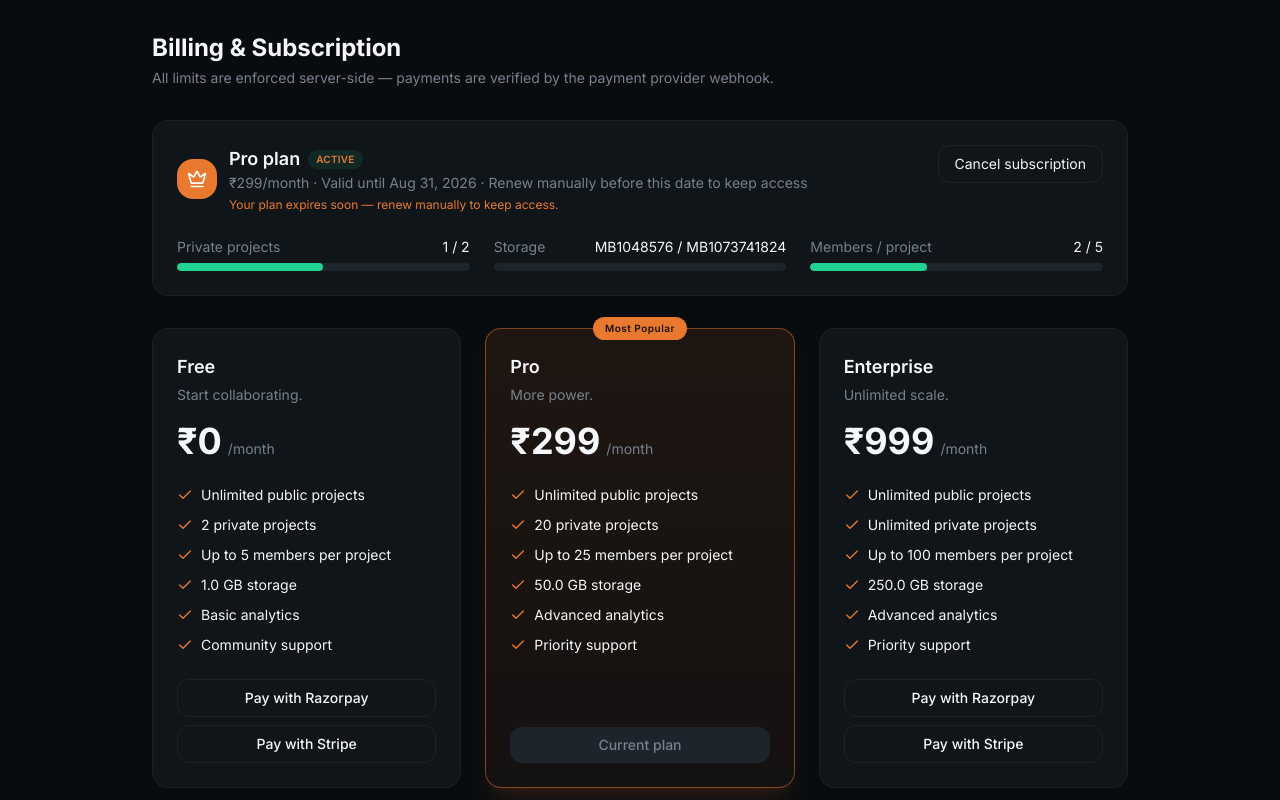
Test case: Billing › cancels the subscription with confirmation
This screenshot has width=1280, height=800.
Expected: the text "Pro plan" is shown, [229,145,300,173]
What coordinates should you click on to do the following:
click the button "Cancel subscription"
I would click on:
 (1020, 164)
Its box is [938,145,1103,183].
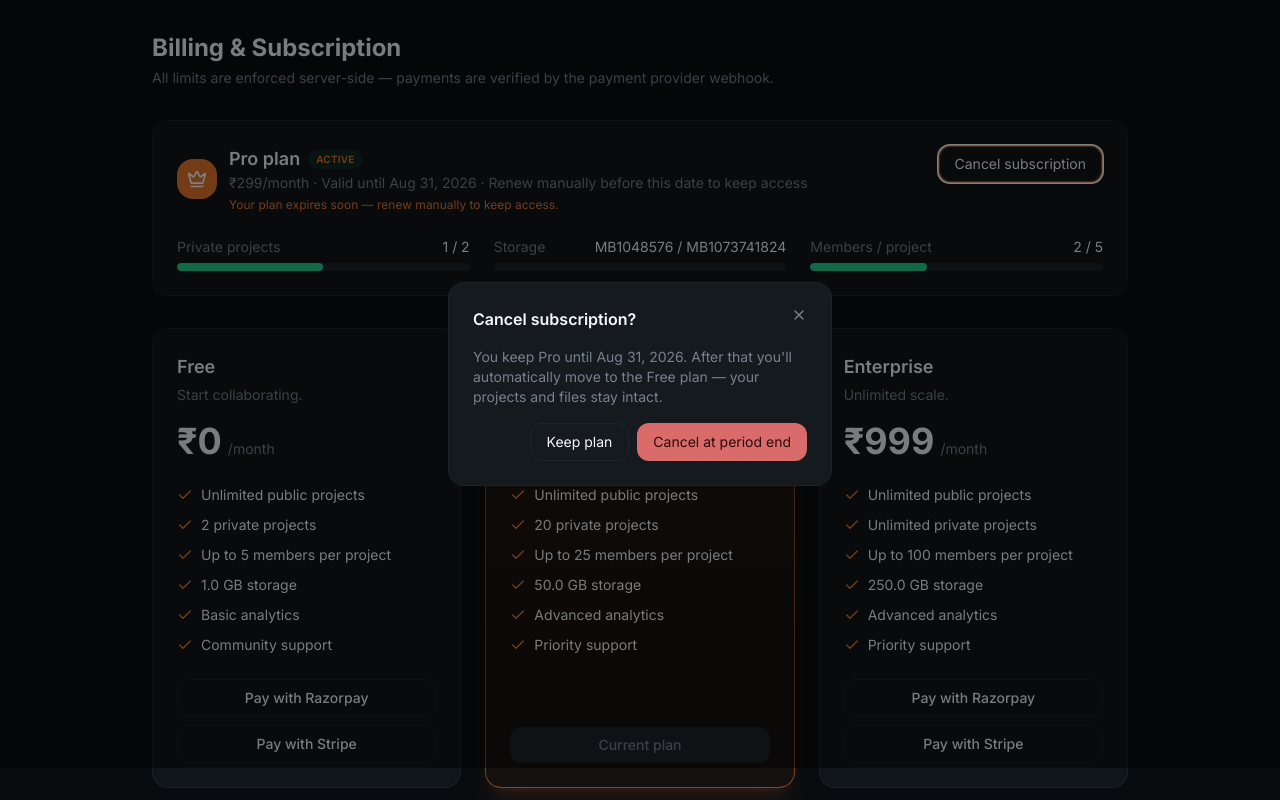
What coordinates should you click on to do the following:
click the button "Cancel at period end"
I would click on:
 (722, 442)
Its box is [637,423,807,461].
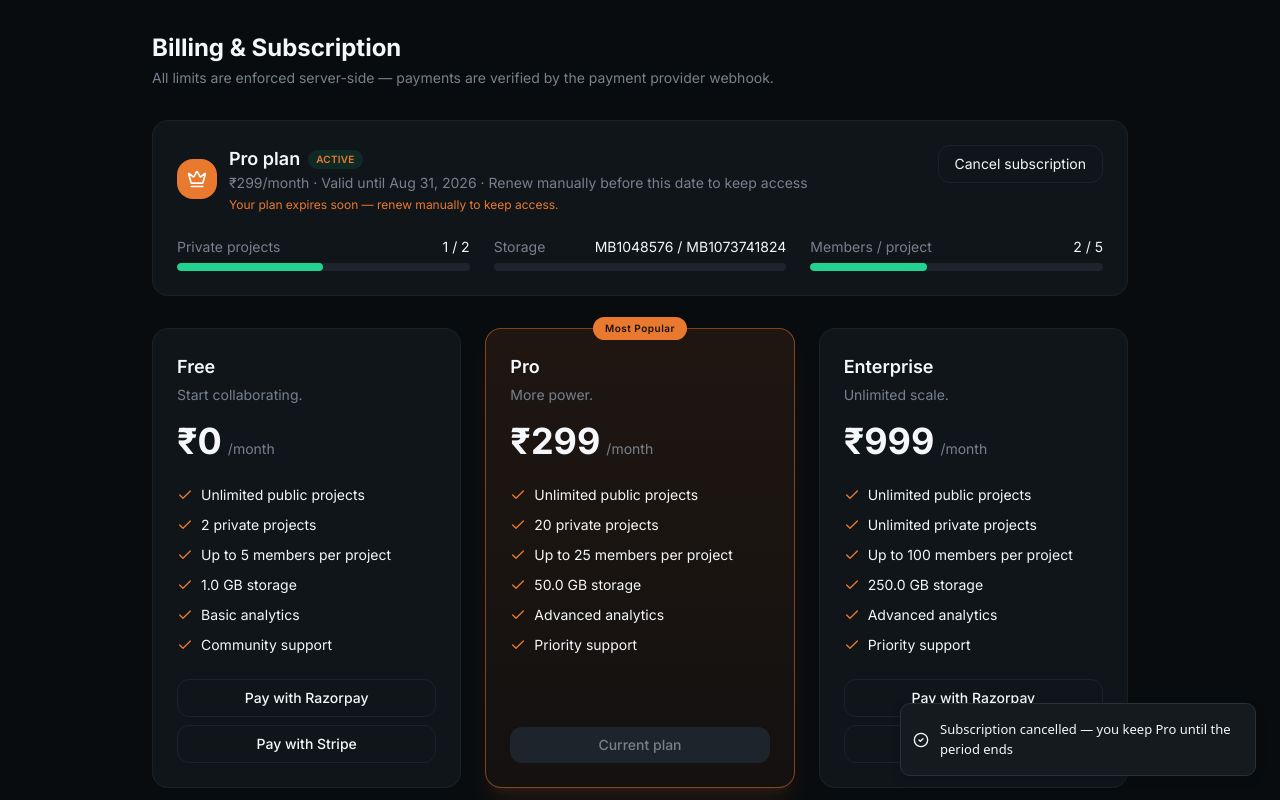
Expected: the text "Subscription cancelled — you keep Pro until the period ends" is shown, [940,720,1239,759]
